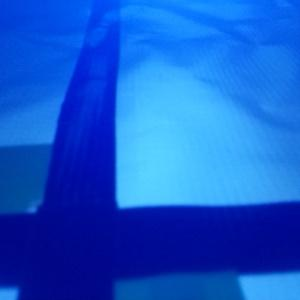bottom_right: (22, 215, 247, 299)
top_left: (1, 145, 115, 286)
